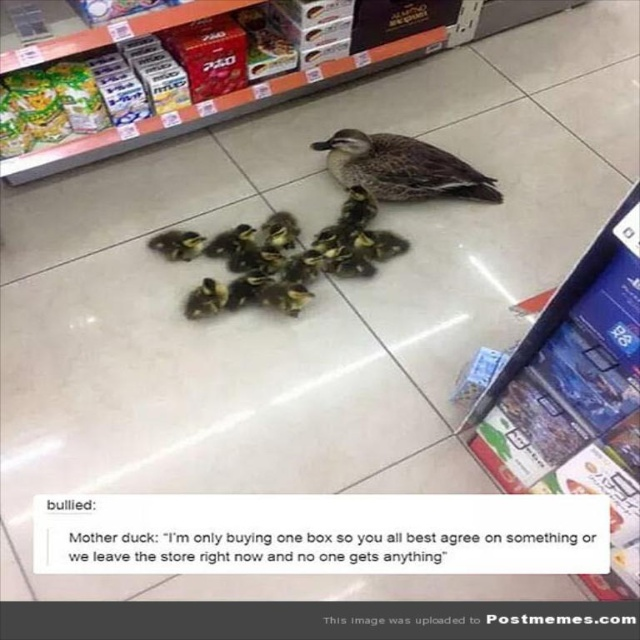Duck: (145, 186, 412, 324), (302, 111, 511, 201)
